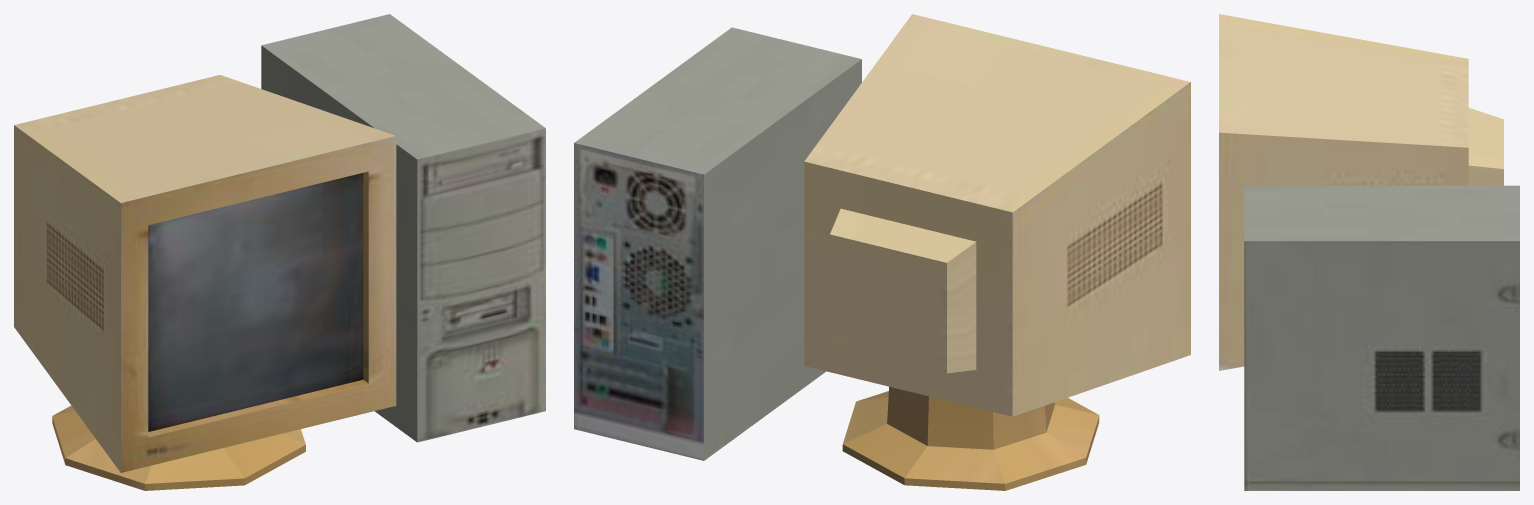
Rendered from old_pc.fbx.
3 views of the same model, side by side, from view 1: azimuth 30°, elevation 25°; view 2: azimuth 150°, elevation 25°; view 3: azimuth 270°, elevation 25° (orthographic). The views are drawn at different scales.
Visible parts, largest first — view 1: Screen, PC block, Handler; view 2: Screen, PC block, Handler; view 3: PC block, Screen.
Boxes of the visible parts, x1,y1,x2,y2 form: Screen: [14, 75, 396, 472]; PC block: [261, 14, 545, 442]; Handler: [52, 405, 305, 490]; Screen: [804, 14, 1190, 416]; PC block: [574, 27, 861, 460]; Handler: [842, 386, 1099, 490]; PC block: [1244, 185, 1519, 490]; Screen: [1219, 14, 1503, 370].
Size of the model in its own units: 68.21 by 48.38 by 45.8.
